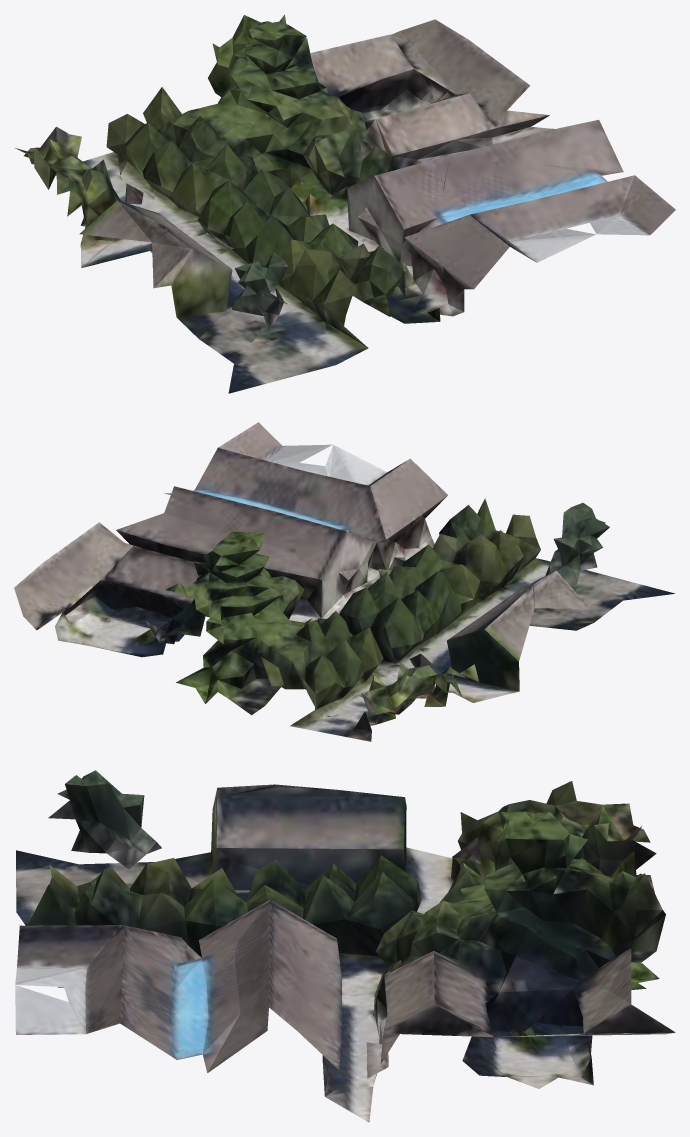
The model's file is Tile_+004_+002_L17_00.glb.
3 views of the same model, one above another, from view 1: azimuth 30°, elevation 25°; view 2: azimuth 150°, elevation 25°; view 3: azimuth 270°, elevation 25° (orthographic). The views are drawn at different scales.
Size of the model in its own units: 60.36 by 18.47 by 59.47.
Materials: 1 (1 with a texture image).
